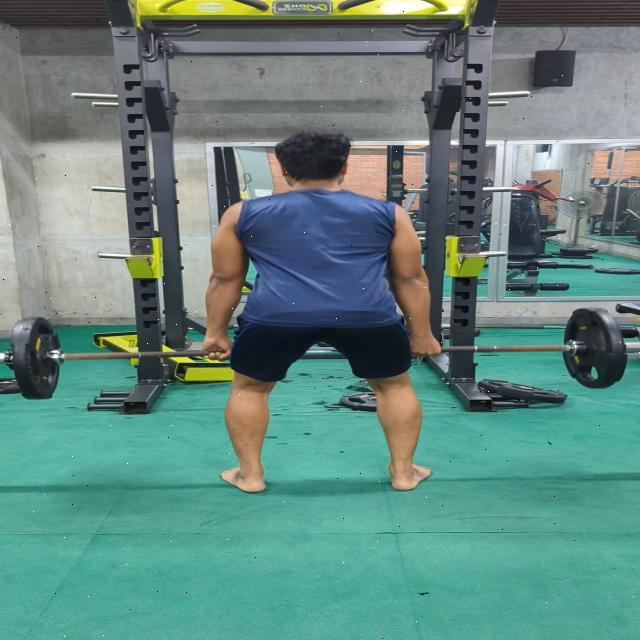Normal_Deadlifts: (199, 131, 441, 493)
